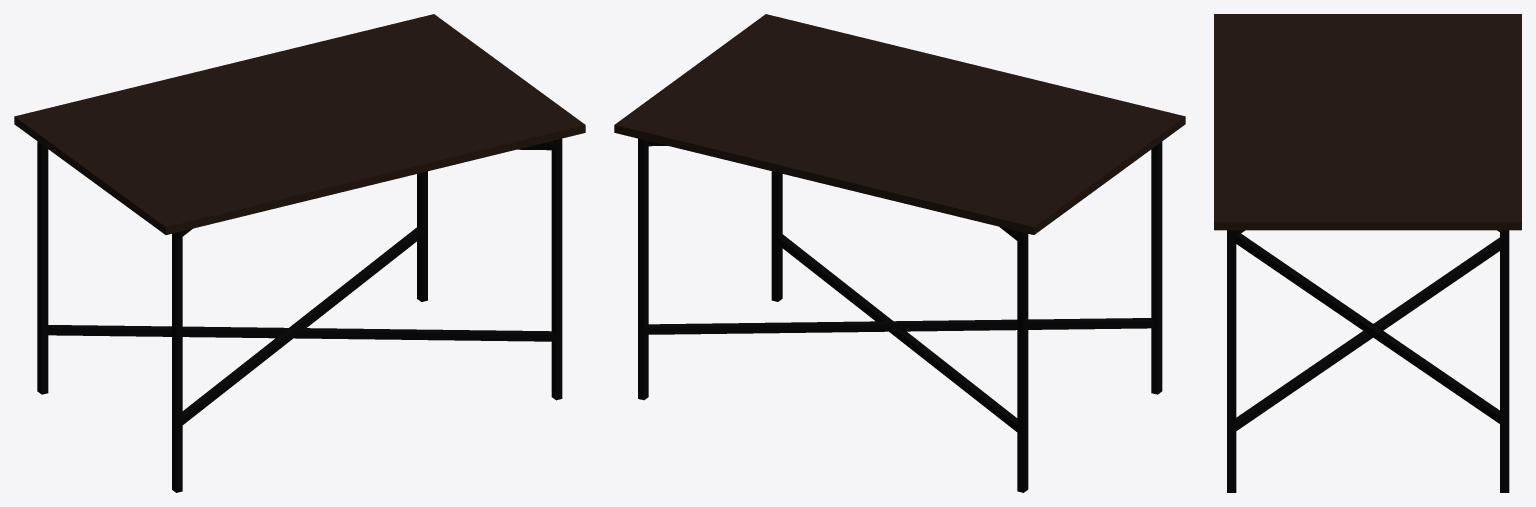
File: mesa1.fbx
3 views of the same model, side by side, from view 1: azimuth 30°, elevation 25°; view 2: azimuth 150°, elevation 25°; view 3: azimuth 270°, elevation 25° (orthographic).
Visible parts, largest first — view 1: Component1, Component4_1; view 2: Component1, Component4_1; view 3: Component1, Component4_1.
Part boxes in pixels (bbox=[...]): Component1: bbox=[14, 14, 585, 234]; Component4_1: bbox=[37, 138, 562, 492]; Component1: bbox=[614, 14, 1185, 234]; Component4_1: bbox=[638, 138, 1162, 492]; Component1: bbox=[1214, 14, 1521, 230]; Component4_1: bbox=[1227, 230, 1509, 492].
Bounding box in the file's own units: 48 × 30 × 30.
